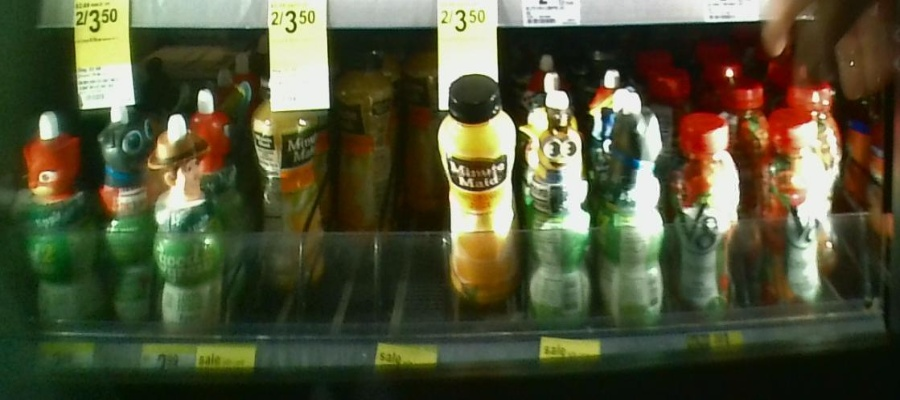bottle: (444, 68, 516, 307), (21, 107, 97, 331), (598, 91, 667, 331), (150, 117, 226, 331), (250, 71, 323, 285), (530, 88, 594, 322), (755, 101, 822, 307), (670, 113, 738, 314), (334, 37, 394, 250), (99, 107, 151, 328), (400, 40, 441, 214)
